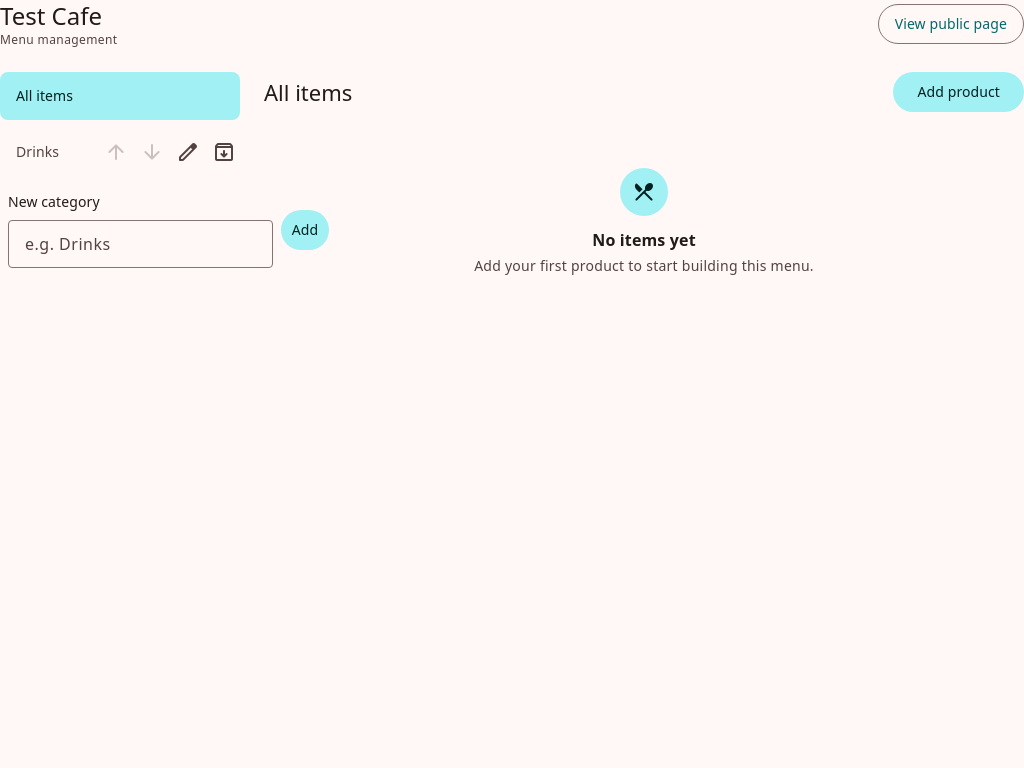
Test case: MenuManager create-product category default › leaves the product form's category blank when 'All items' is selected
Click the button "Add product": [959, 92] box [894, 72, 1023, 112]
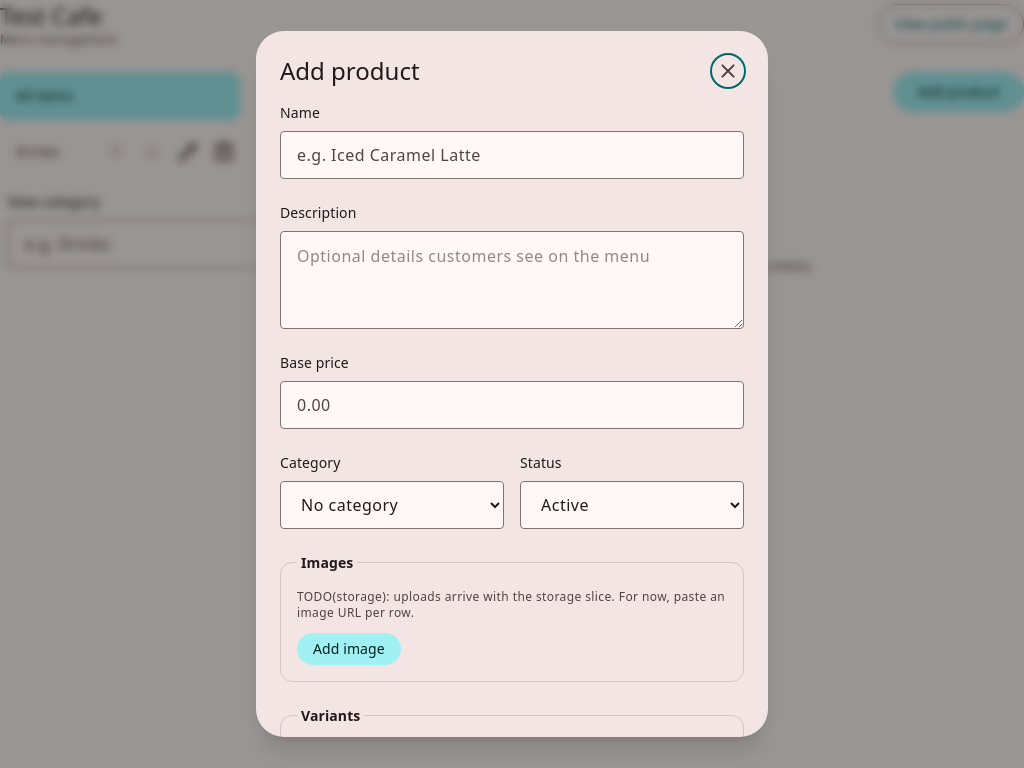
Expected: the dropdown labelled "Category" shows "No category", [280, 481, 504, 529]
